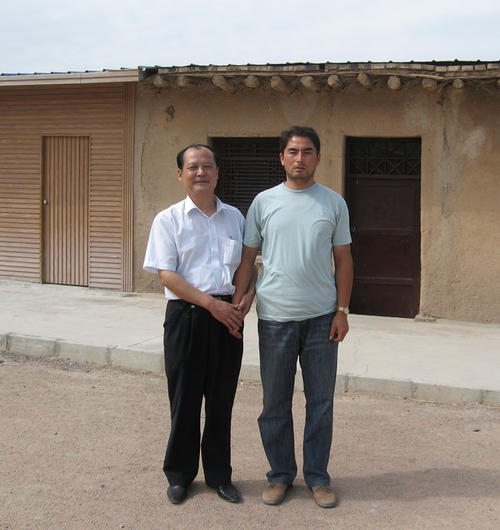no_mask: (275, 126, 325, 182), (175, 143, 222, 200)
